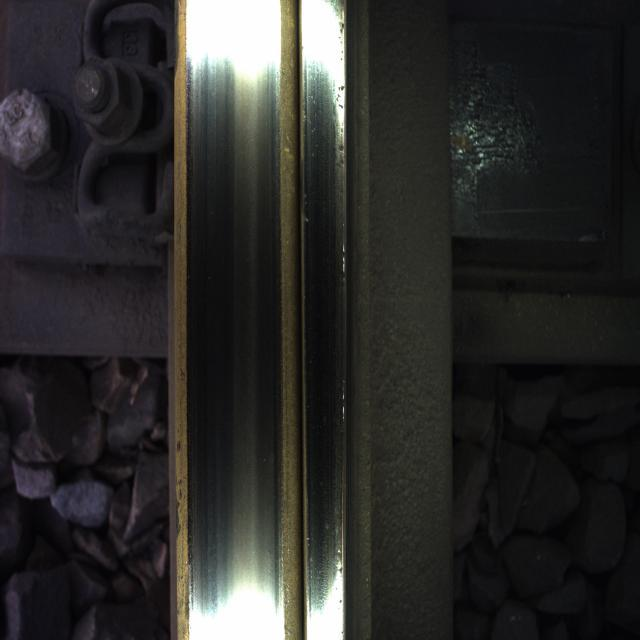break: (194, 65, 271, 521)
